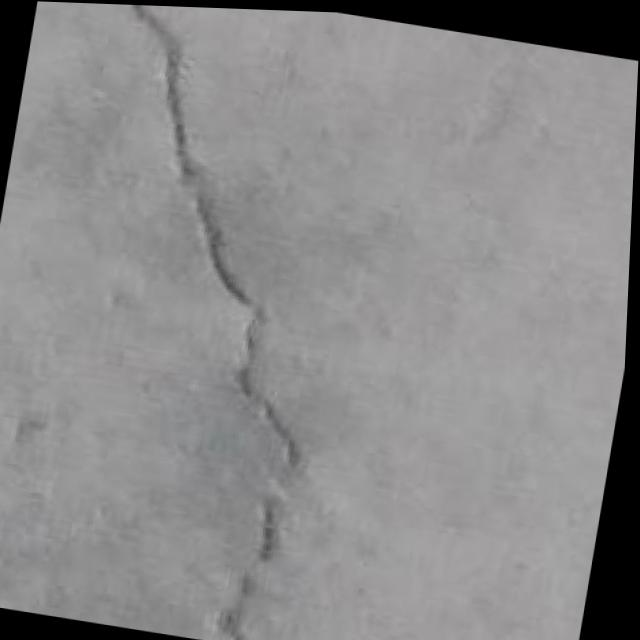Crack: (15, 1, 388, 640)
